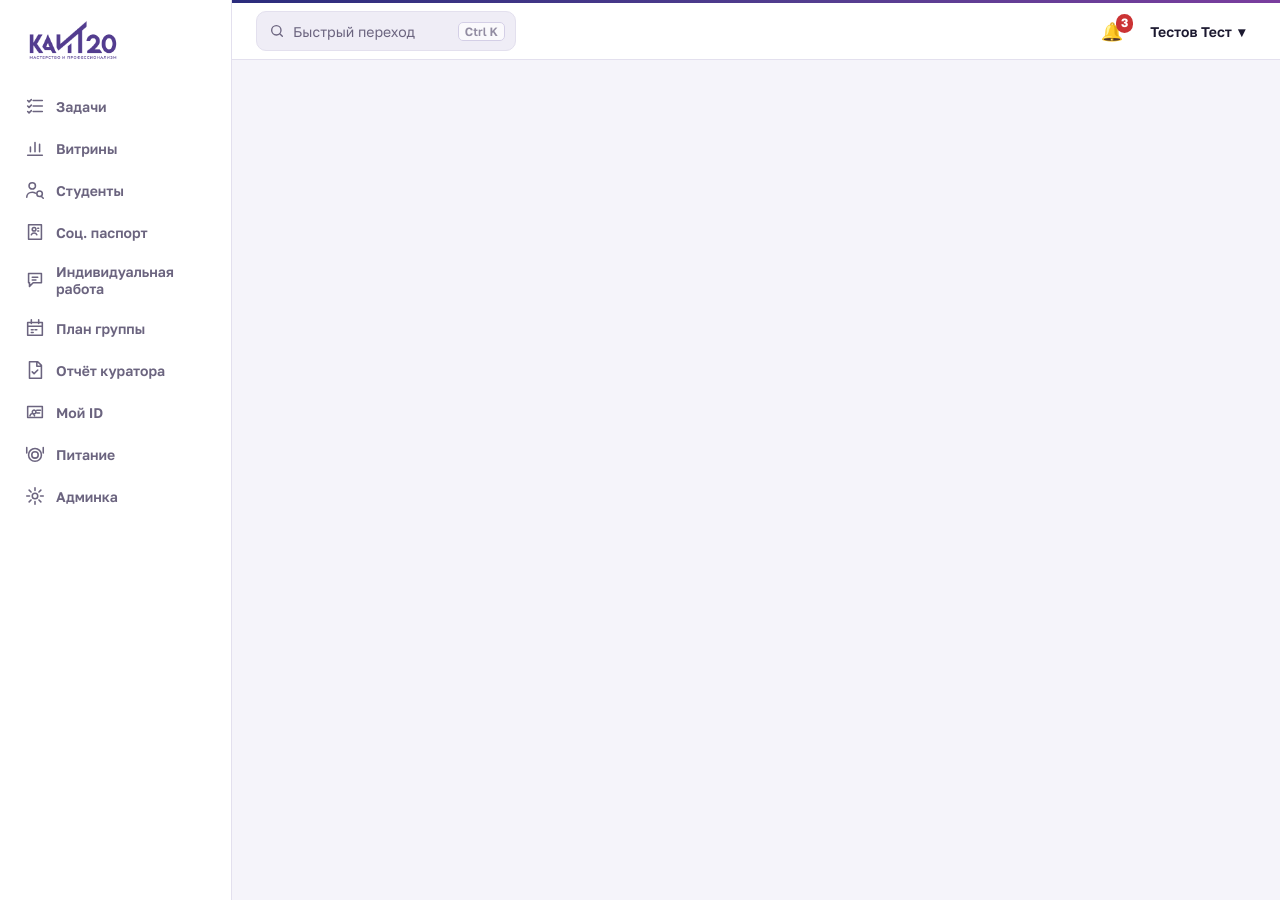
Test case: Уведомления (колокольчик) › управленец: две вкладки со своими счётчиками; «Управление» запрашивает только свою категорию
What coordinates should you click on to do the following:
click the button named "Уведомления"
I would click on:
 (1112, 31)
Its box is [1097,18,1127,44].
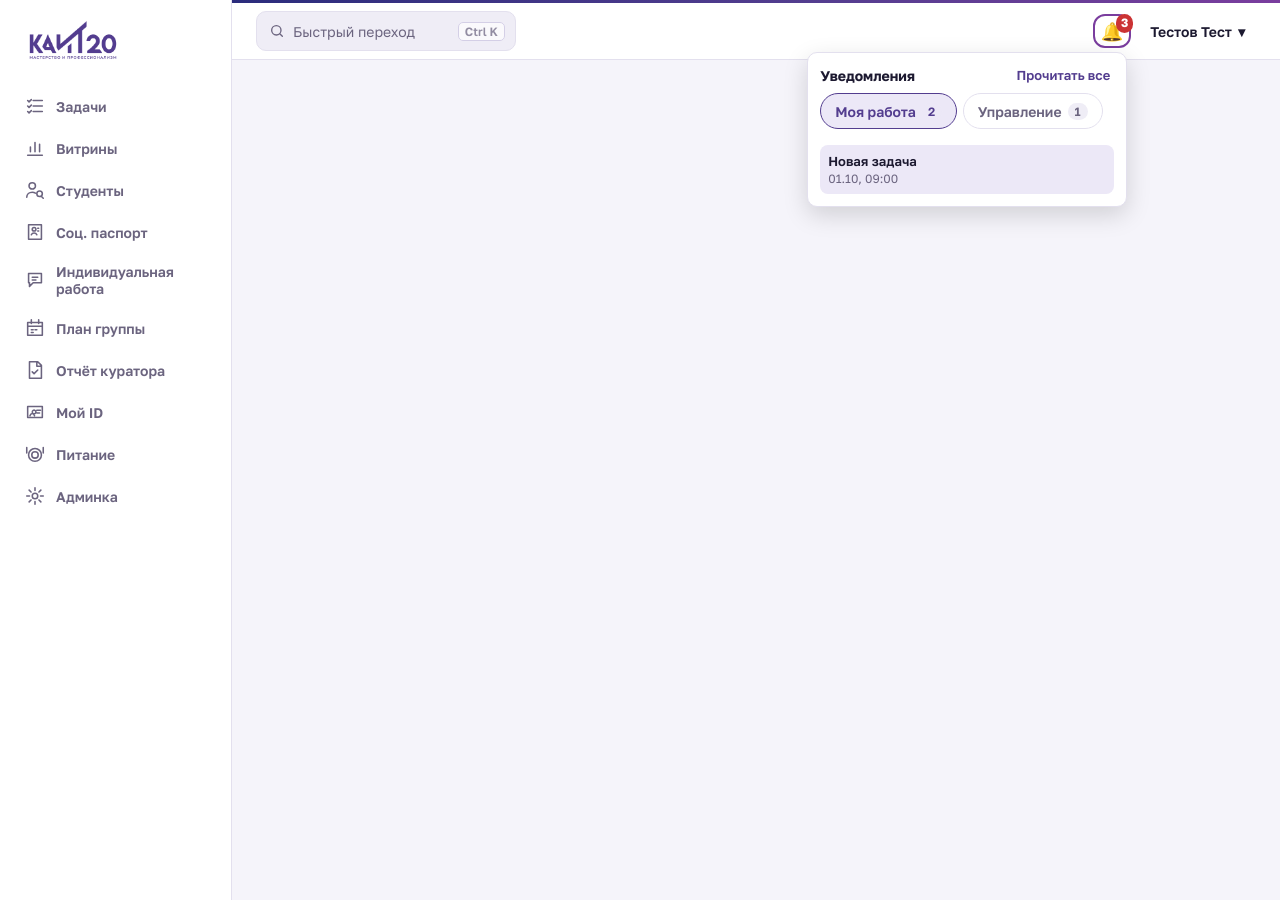
Expected: the text "Новая задача" is shown, [828,153,917,169]
What coordinates should you click on to do the following:
click the tab "Управление 1"
I would click on:
 (1033, 111)
Its box is [963,93,1103,129].
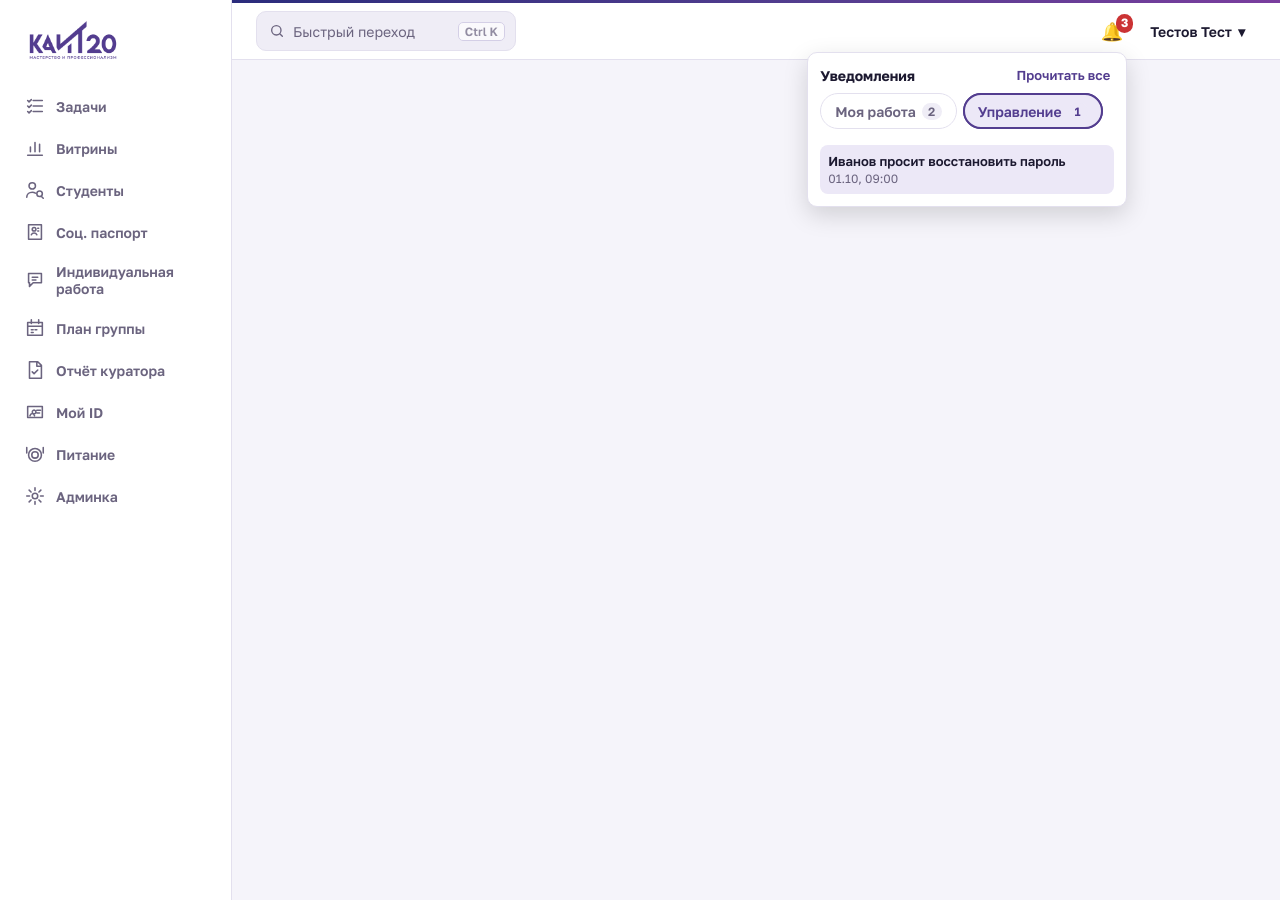
Expected: the tab "Моя работа 2" is shown, [820,93,957,129]
Expected: the text "Иванов просит восстановить пароль" is shown, [828,153,1066,169]
Expected: the text "Новая задача" is gone
